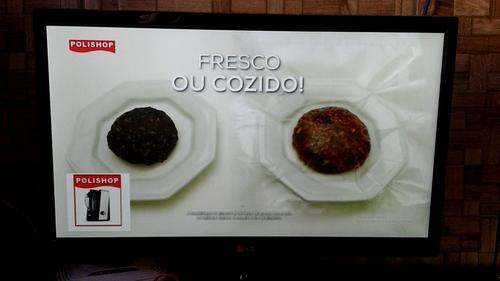Polishop #1: (67, 174, 130, 231)
